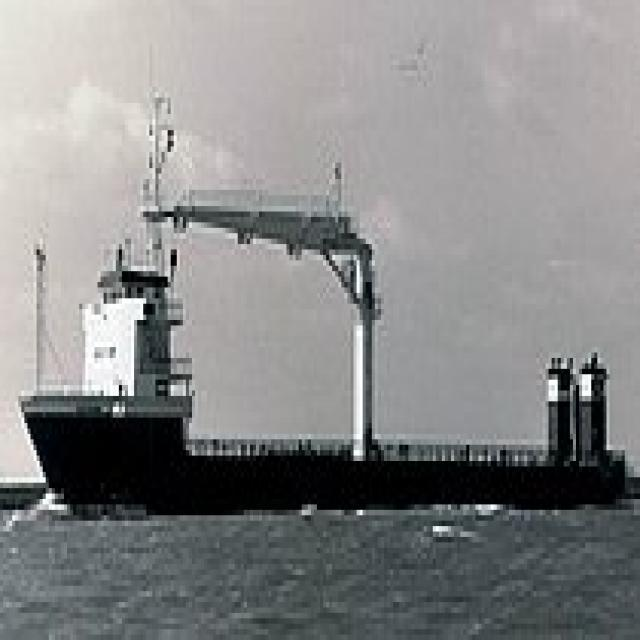Ship: (19, 61, 635, 528)
